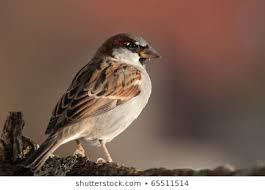hsparrow: (17, 30, 166, 176)
